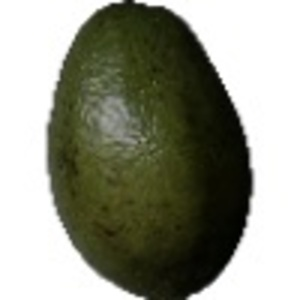abacate: (43, 2, 253, 298)
